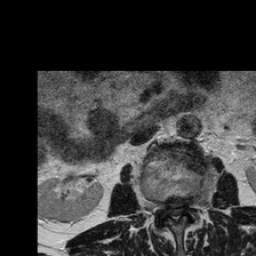CCS_severe_stenosis: (172, 192, 179, 226)
LFS_stenosis: (184, 194, 192, 216)
LLS_severe_stenosis: (179, 194, 184, 217)
RFS_stenosis: (158, 194, 165, 214)
RLS_severe_stenosis: (165, 195, 172, 216)
